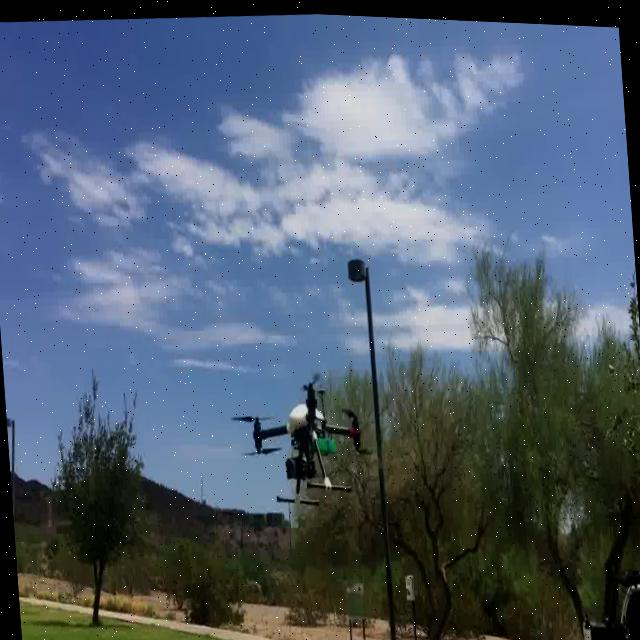drone: (242, 367, 370, 508)
